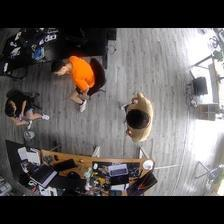normal: (52, 54, 101, 113), (117, 89, 157, 146), (4, 93, 50, 130)
